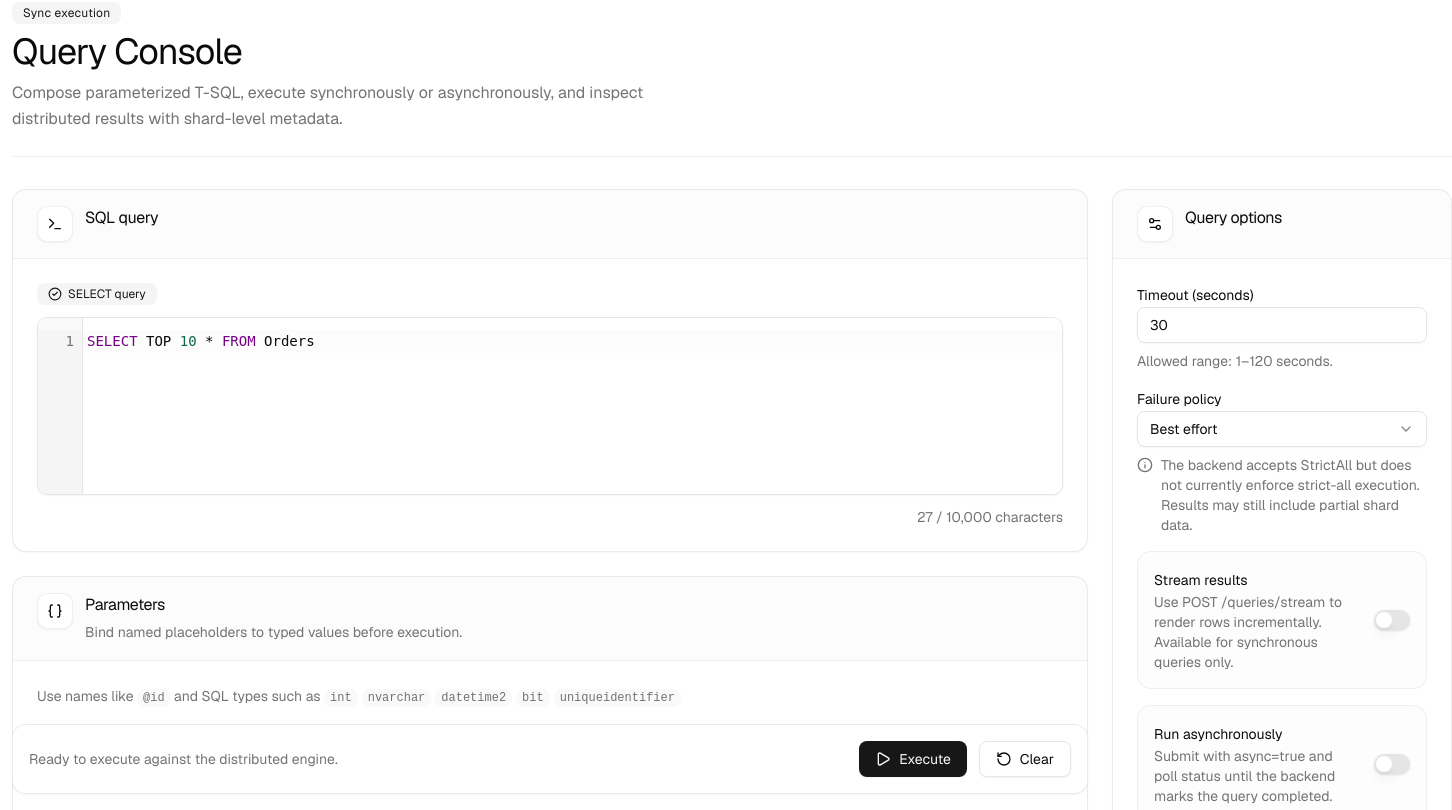
QueryConsolePage › shows sync execution errors beside the action bar
The width and height of the screenshot is (1452, 810).
Step 1. Click the button "Execute" → (913, 759), box [859,741,967,777]
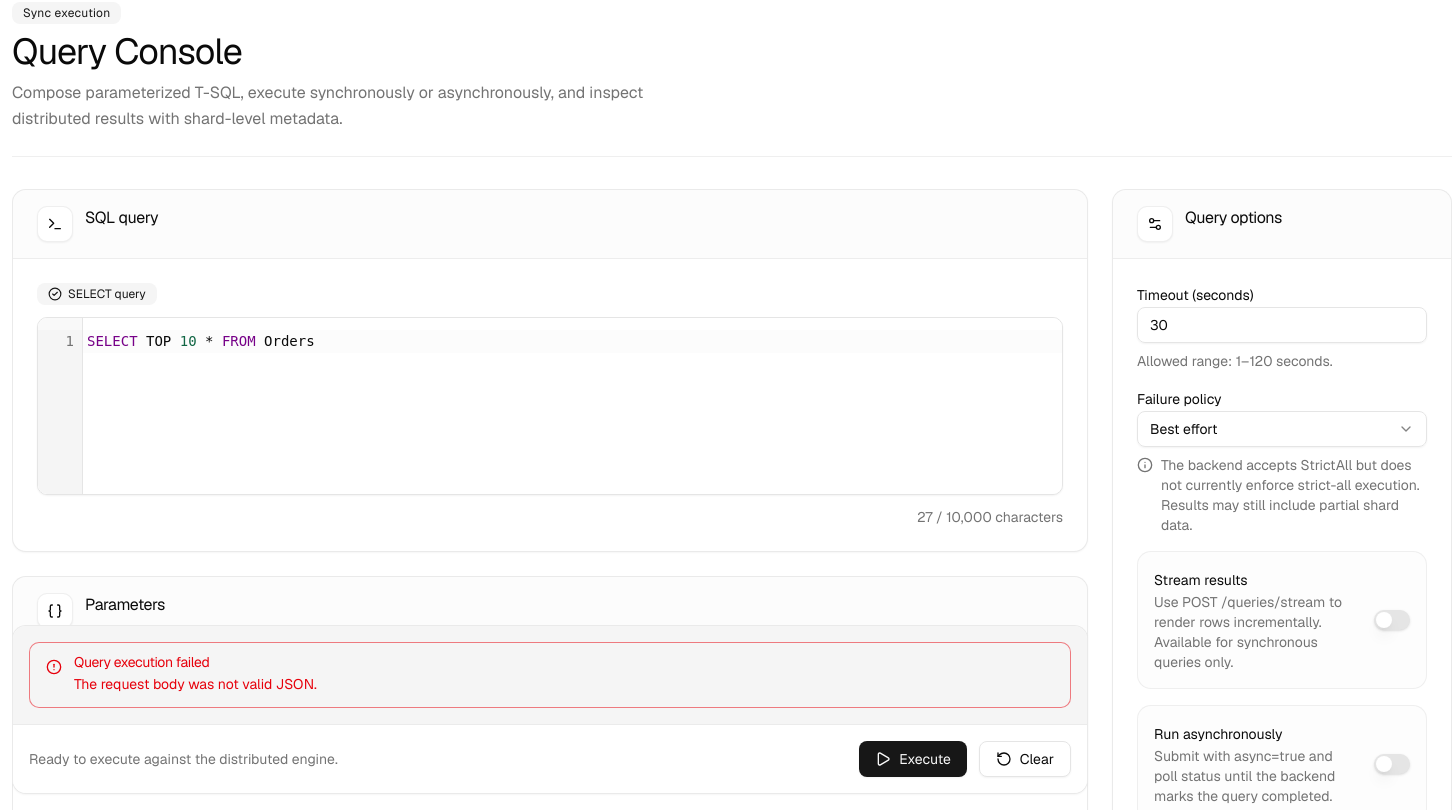
Expected: the message shows "Query execution failed", [74,652,209,670]
Expected: the message shows "The request body was not valid JSON.", [74,674,317,692]
